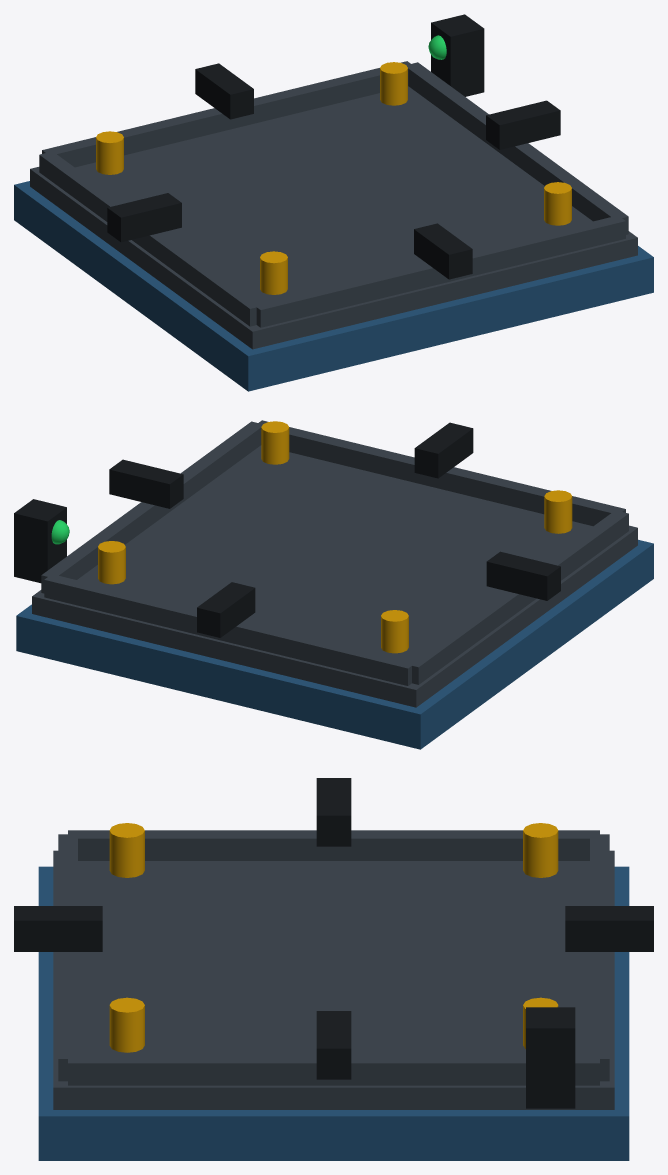
3 renders of one model, top to bottom at view 1: azimuth 30°, elevation 25°; view 2: azimuth 150°, elevation 25°; view 3: azimuth 270°, elevation 25°, orthographic. The views are drawn at different scales.
Parts seen in each view (by area): view 1: pallet:tray, pallet:base, rim:north, rim:south, rim:west, rim:east, sensor:presence:body, fixture:clamp-arm:1, fixture:clamp-arm:2, fixture:clamp-arm:4, fixture:clamp-arm:3, fixture:locator:1 (+3 smaller); view 2: pallet:tray, pallet:base, rim:south, rim:north, rim:west, rim:east, sensor:presence:body, fixture:clamp-arm:2, fixture:clamp-arm:1, fixture:clamp-arm:4, fixture:clamp-arm:3, fixture:locator:4 (+3 smaller); view 3: pallet:tray, pallet:base, rim:east, rim:west, sensor:presence:body, fixture:clamp-arm:3, fixture:clamp-arm:4, rim:north, rim:south, fixture:clamp-arm:1, fixture:clamp-arm:2, fixture:locator:1 (+2 smaller).
Part boxes in pixels (x1=…): pallet:tray: x1=30, y1=86, x2=637, y2=349; pallet:base: x1=14, y1=181, x2=653, y2=391; rim:north: x1=253, y1=217, x2=625, y2=327; rim:south: x1=42, y1=61, x2=414, y2=167; rim:west: x1=39, y1=151, x2=259, y2=326; rim:east: x1=408, y1=62, x2=628, y2=234; sensor:presence:body: x1=431, y1=14, x2=484, y2=96; fixture:clamp-arm:1: x1=107, y1=193, x2=181, y2=242; fixture:clamp-arm:2: x1=486, y1=100, x2=560, y2=149; fixture:clamp-arm:4: x1=414, y1=223, x2=472, y2=279; fixture:clamp-arm:3: x1=195, y1=63, x2=253, y2=119; fixture:locator:1: x1=96, y1=131, x2=123, y2=174; pallet:tray: x1=32, y1=445, x2=637, y2=707; pallet:base: x1=16, y1=539, x2=653, y2=749; rim:south: x1=44, y1=575, x2=415, y2=685; rim:north: x1=254, y1=420, x2=625, y2=526; rim:west: x1=407, y1=512, x2=628, y2=684; rim:east: x1=41, y1=421, x2=262, y2=593; sensor:presence:body: x1=14, y1=499, x2=66, y2=583; fixture:clamp-arm:2: x1=109, y1=459, x2=183, y2=508; fixture:clamp-arm:1: x1=486, y1=551, x2=560, y2=600; fixture:clamp-arm:4: x1=414, y1=422, x2=473, y2=478; fixture:clamp-arm:3: x1=197, y1=582, x2=255, y2=637; fixture:locator:4: x1=261, y1=421, x2=289, y2=464; pallet:tray: x1=53, y1=850, x2=614, y2=1109; pallet:base: x1=38, y1=866, x2=629, y2=1160; rim:east: x1=68, y1=1055, x2=599, y2=1085; rim:west: x1=68, y1=830, x2=599, y2=860; sensor:presence:body: x1=526, y1=1007, x2=575, y2=1108; fixture:clamp-arm:3: x1=565, y1=906, x2=653, y2=951; fixture:clamp-arm:4: x1=14, y1=906, x2=102, y2=951; rim:north: x1=58, y1=834, x2=77, y2=1081; rim:south: x1=590, y1=834, x2=609, y2=1081; fixture:clamp-arm:1: x1=316, y1=778, x2=351, y2=846; fixture:clamp-arm:2: x1=316, y1=1011, x2=351, y2=1079; fixture:locator:1: x1=523, y1=823, x2=558, y2=877.
Bounding box in the file's own units: 0.66 × 0.165 × 0.65.
